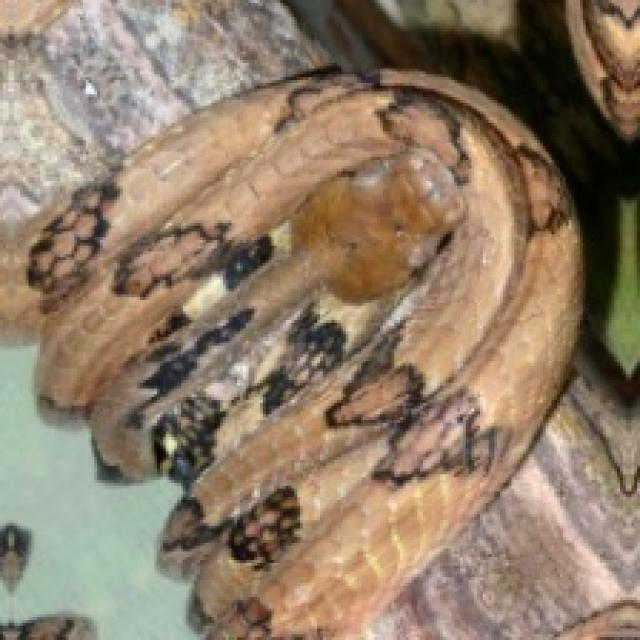dog-toothed cat snake: (29, 71, 580, 637)
